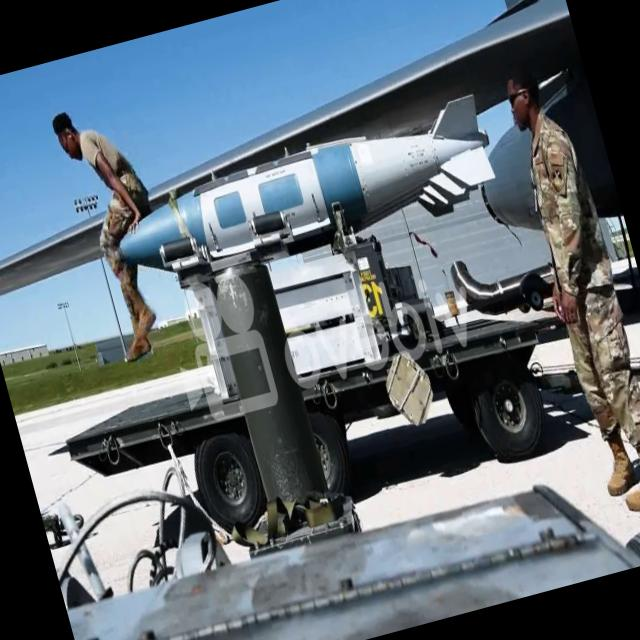rocket: (98, 85, 502, 283)
